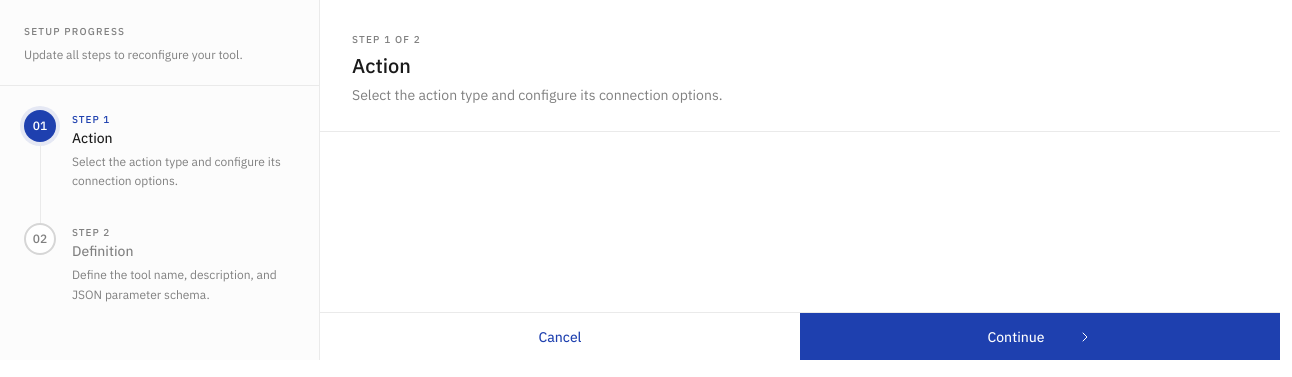
Test case: Deployment and tool flows › update tool validates missing name before submit
The image size is (1292, 377).
Step 1. Click the button "Continue" → (1040,336), box x1=800 y1=313 x2=1280 y2=360
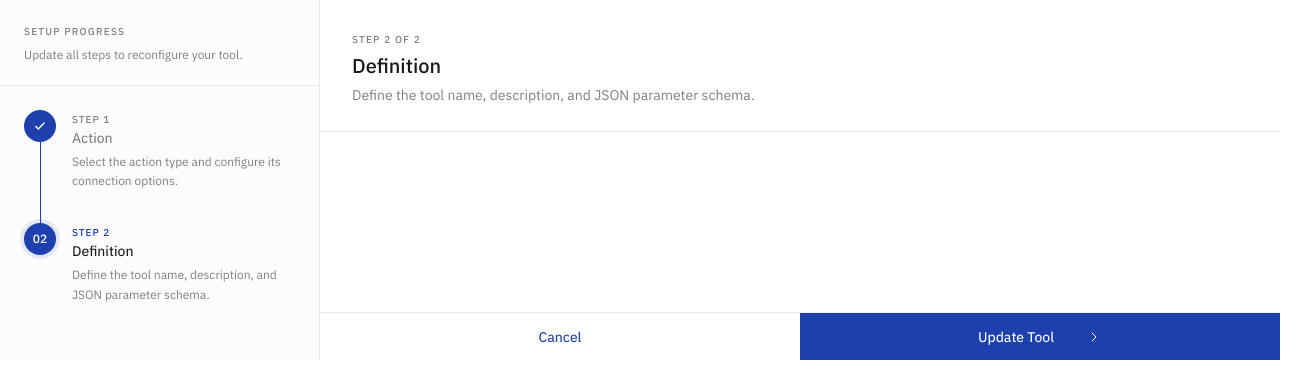
Step 2. Click the button "Update Tool" → (1040,336), box x1=800 y1=313 x2=1280 y2=360
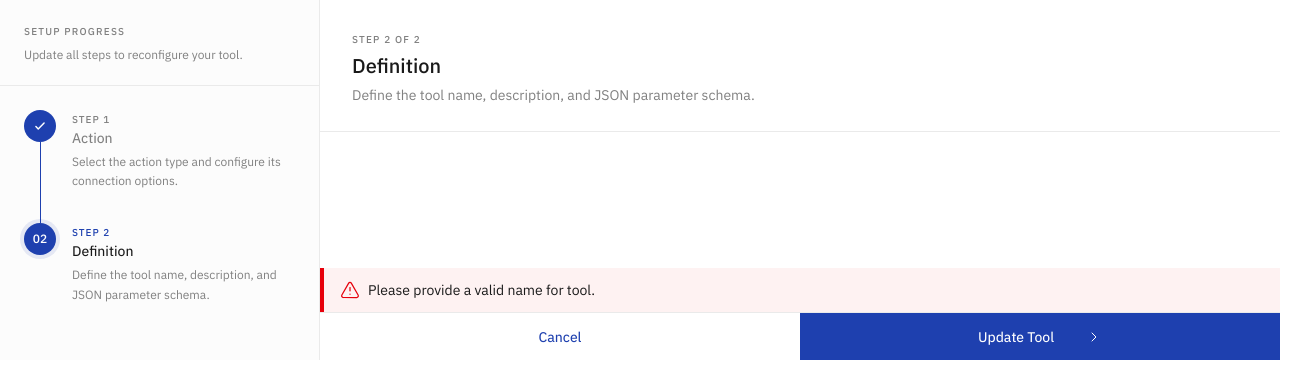
Expected: the text "Please provide a valid name for tool." is shown, x1=368 y1=280 x2=595 y2=300
